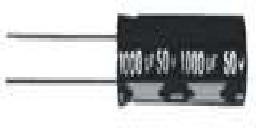Electrolytic-Capacitor: (3, 11, 249, 112)
